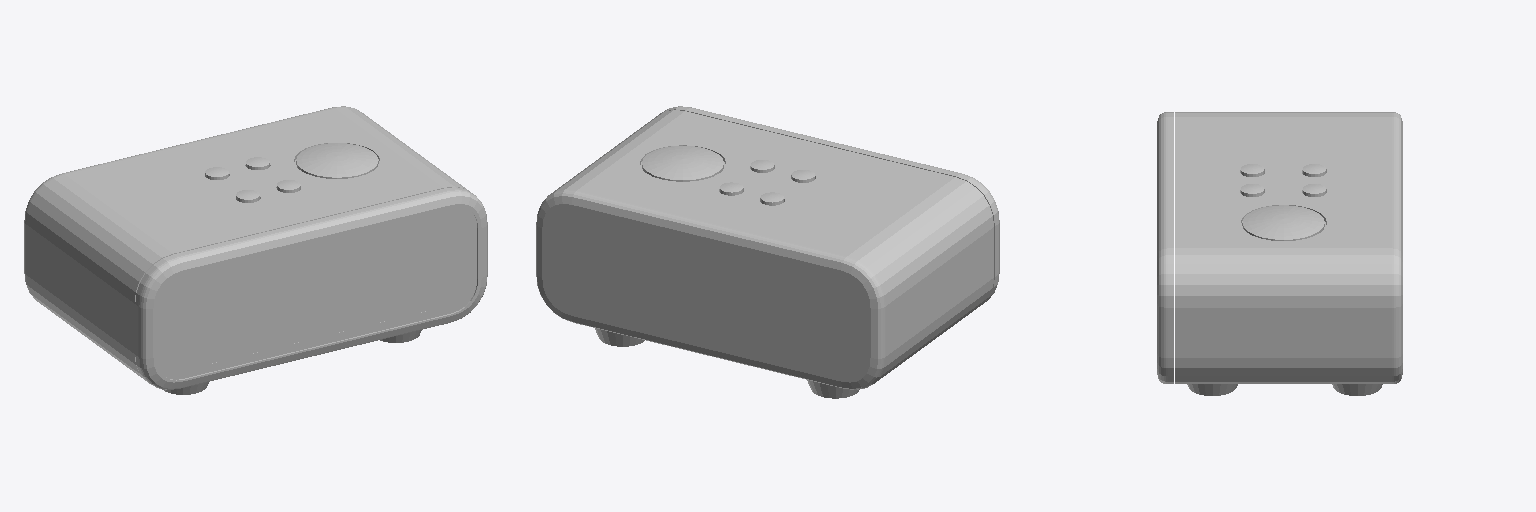
File: despertador.obj
The picture shows the model from 3 angles: view 1: azimuth 30°, elevation 25°; view 2: azimuth 150°, elevation 25°; view 3: azimuth 270°, elevation 25°; orthographic projection.
Parts seen in each view (by area): view 1: ALARMCLOK; view 2: ALARMCLOK; view 3: ALARMCLOK.
Boxes of the visible parts, x1,y1,x2,y2 form: ALARMCLOK: [24, 106, 487, 394]; ALARMCLOK: [536, 106, 999, 398]; ALARMCLOK: [1157, 112, 1402, 395].
Bounding box in the file's own units: 61.44 × 26.37 × 37.7.